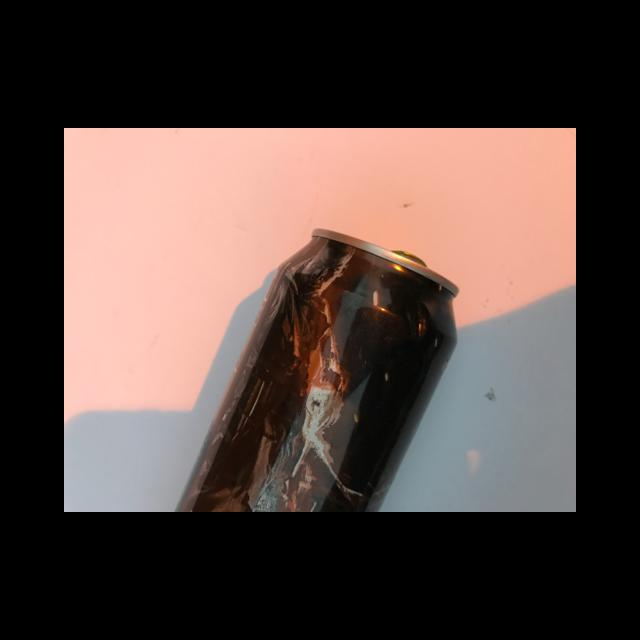metal: (174, 229, 458, 511)
